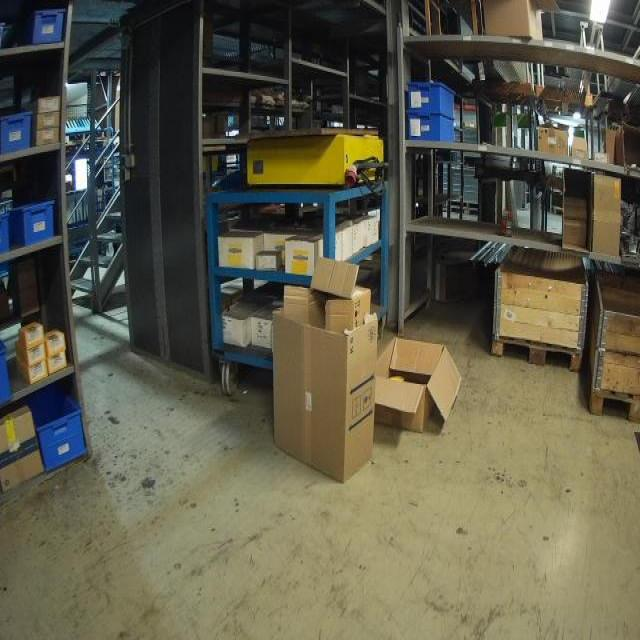pallet: (489, 330, 583, 374), (586, 353, 640, 425)
small_load_carrier: (25, 381, 95, 476), (9, 196, 62, 258), (407, 82, 460, 123), (18, 8, 68, 50), (403, 114, 460, 145), (2, 109, 32, 153), (0, 340, 18, 407), (0, 209, 13, 260)
